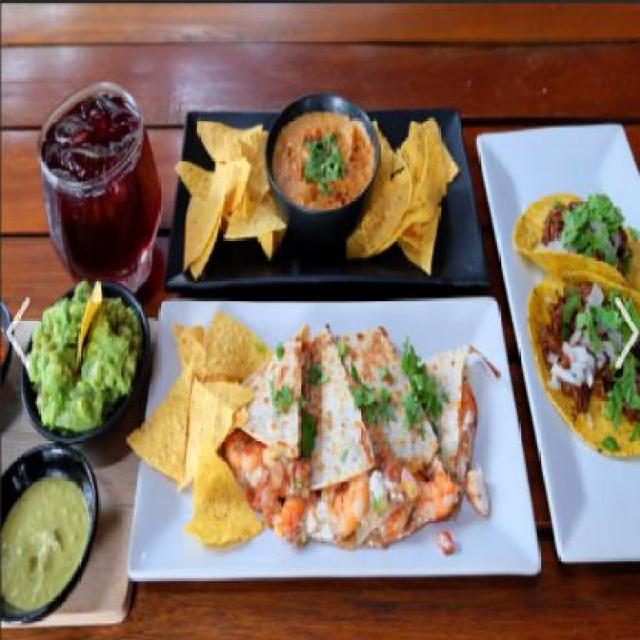chicken quesadilla: (239, 326, 496, 563)
guacamole: (24, 274, 138, 438)
nachos: (142, 309, 262, 549), (170, 110, 292, 272), (348, 102, 457, 282), (71, 281, 103, 361)
tacos: (502, 170, 640, 468)
